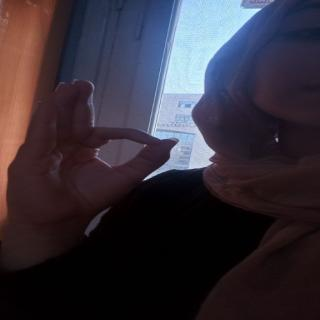Space: (13, 74, 185, 204)
